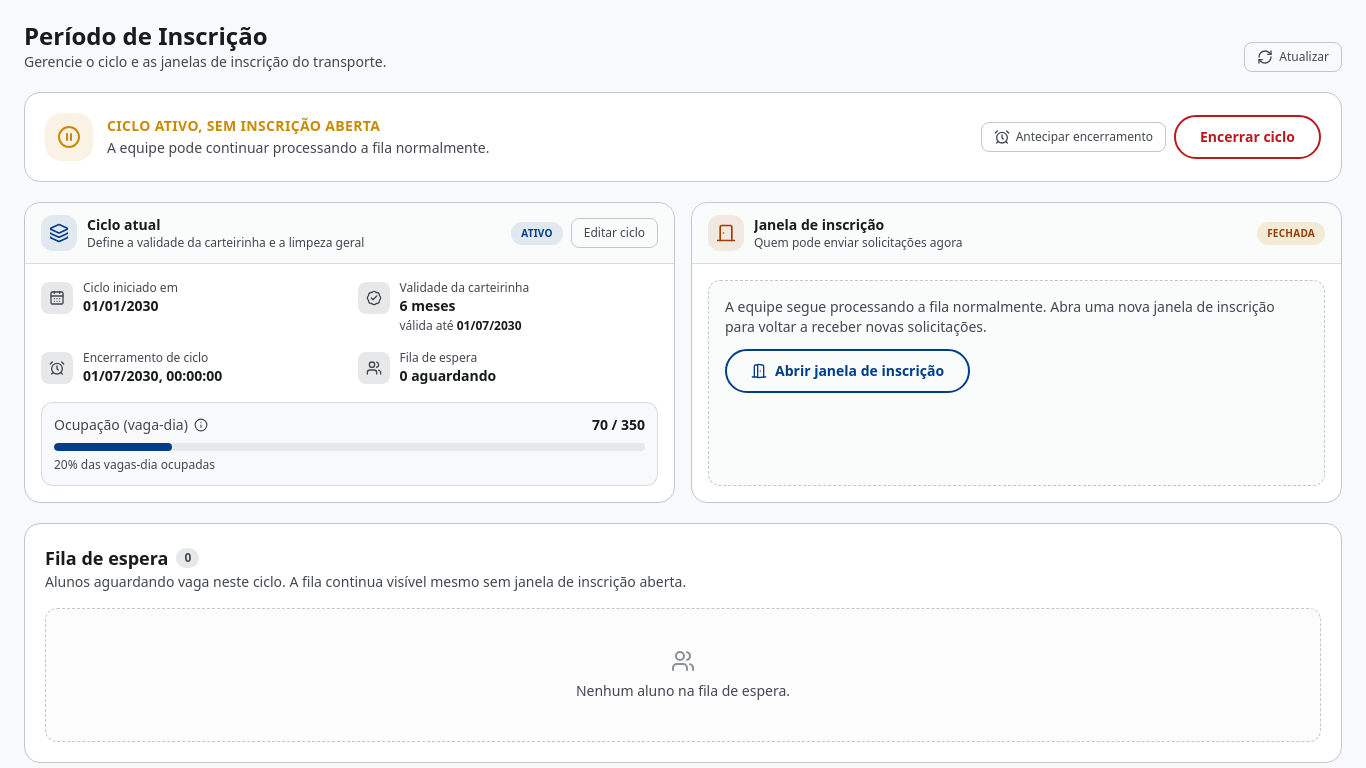
Test: EnrollmentPeriodPage — encerrar carteirinhas ao abrir janela › com a flag, pede ciência antes de mandar qualquer coisa
Click the button "Abrir janela de inscrição": (848, 371) [725, 349, 970, 393]
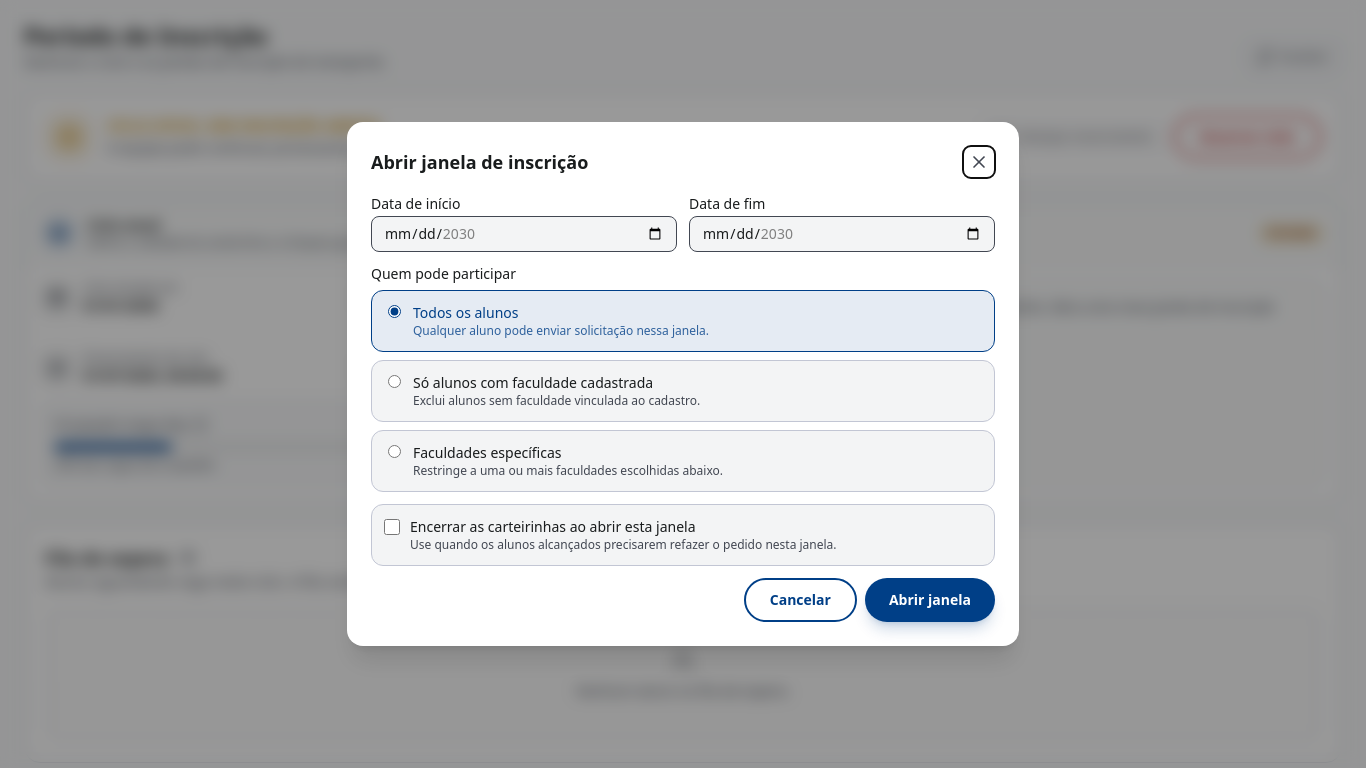
Expected: the date field labelled "Data de início" is shown
In the date field labelled "Data de início": (524, 234) [371, 216, 677, 252], type "2030-04-01"
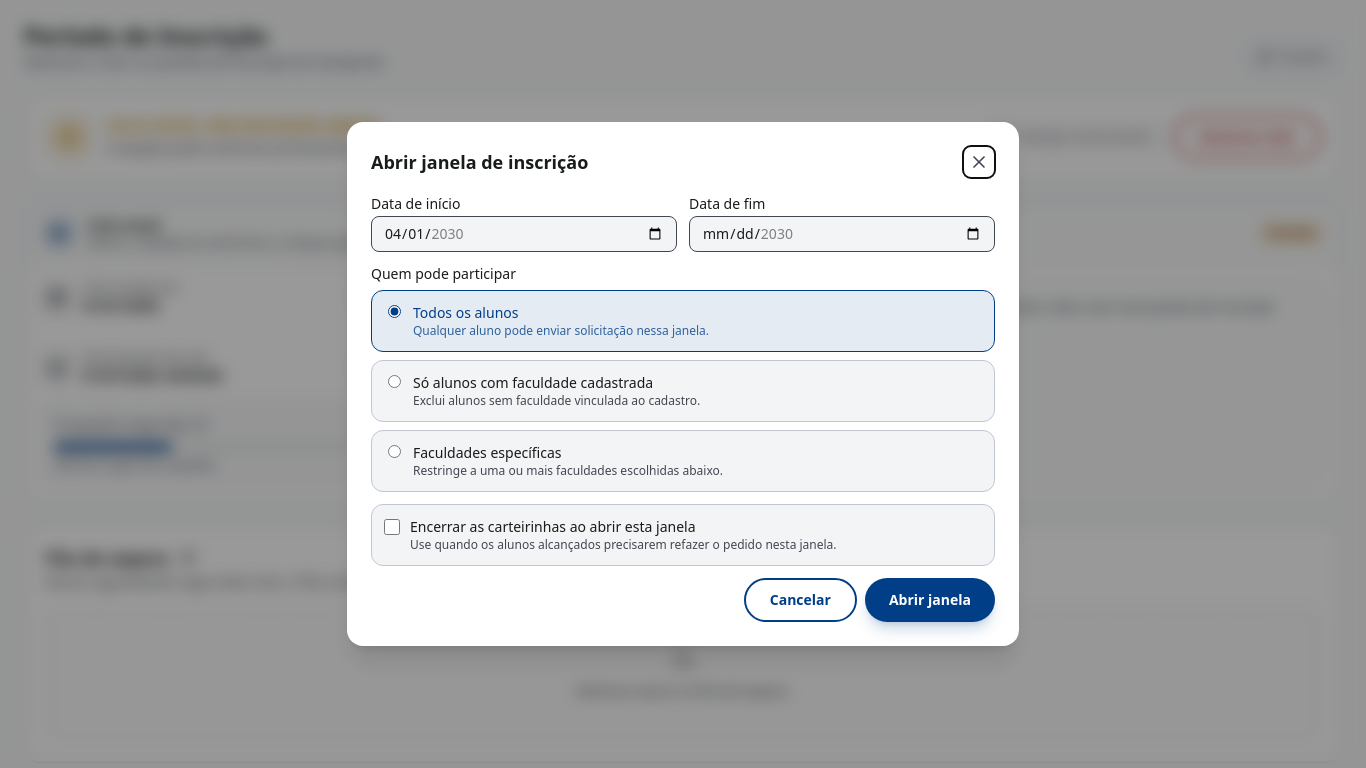
In the date field labelled "Data de fim": (842, 234) [689, 216, 995, 252], type "2030-04-03"
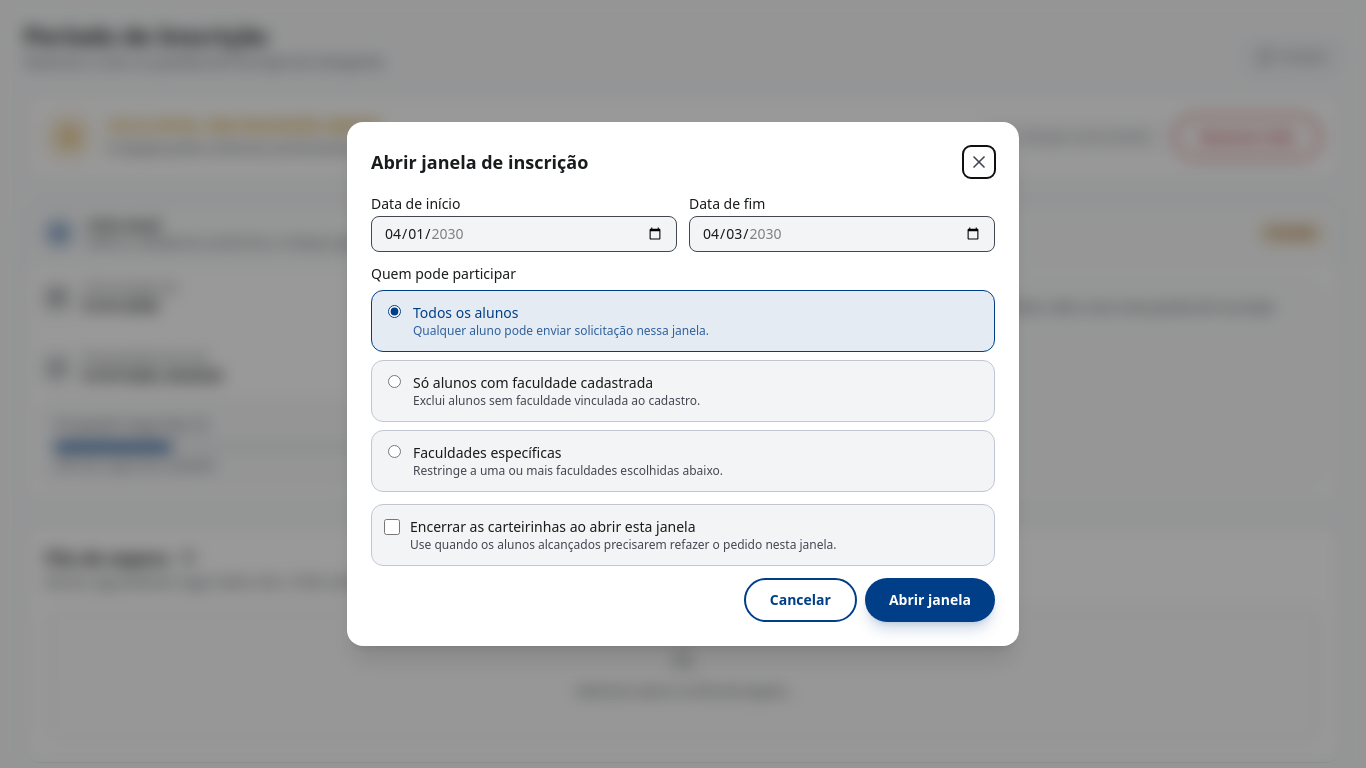
Click the checkbox labelled "Encerrar as carteirinhas": (392, 527) [384, 519, 400, 535]
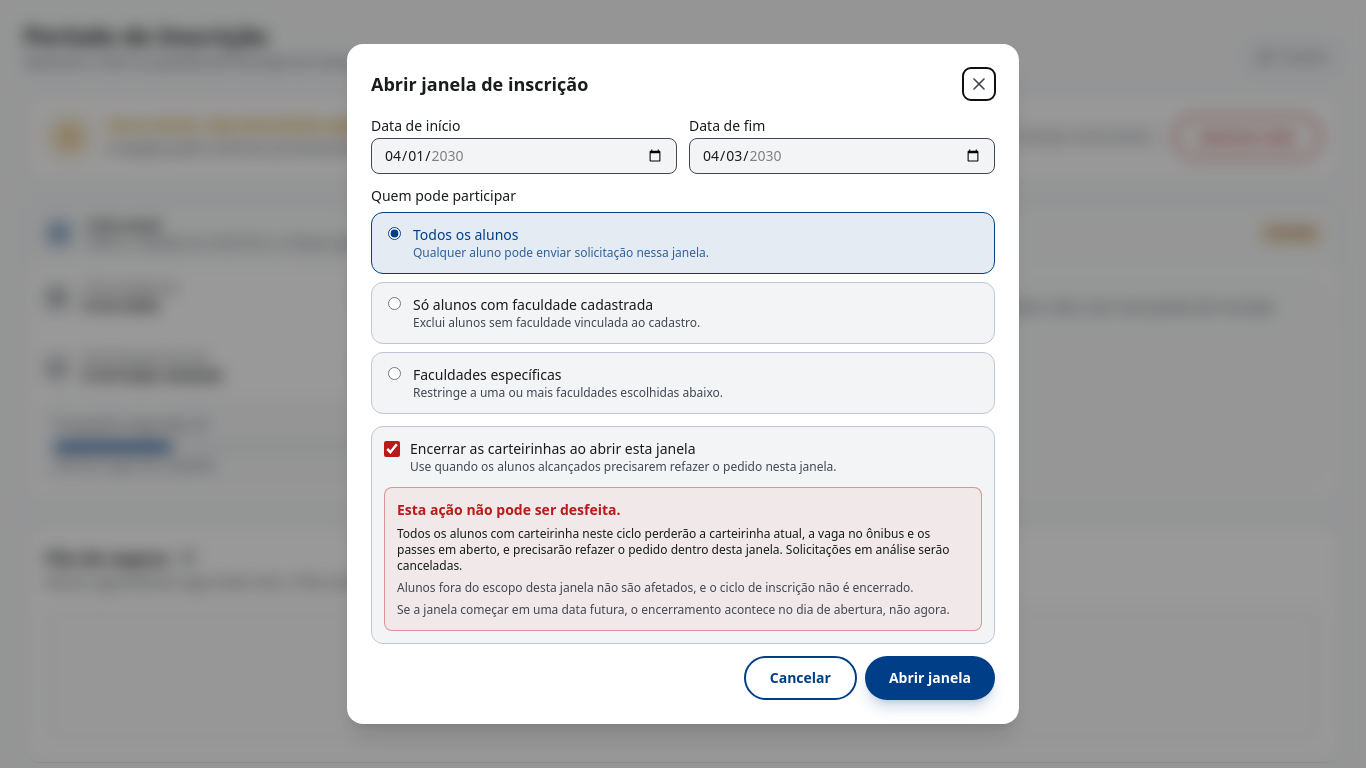
Click the button "Abrir janela": (930, 678) [865, 656, 995, 700]
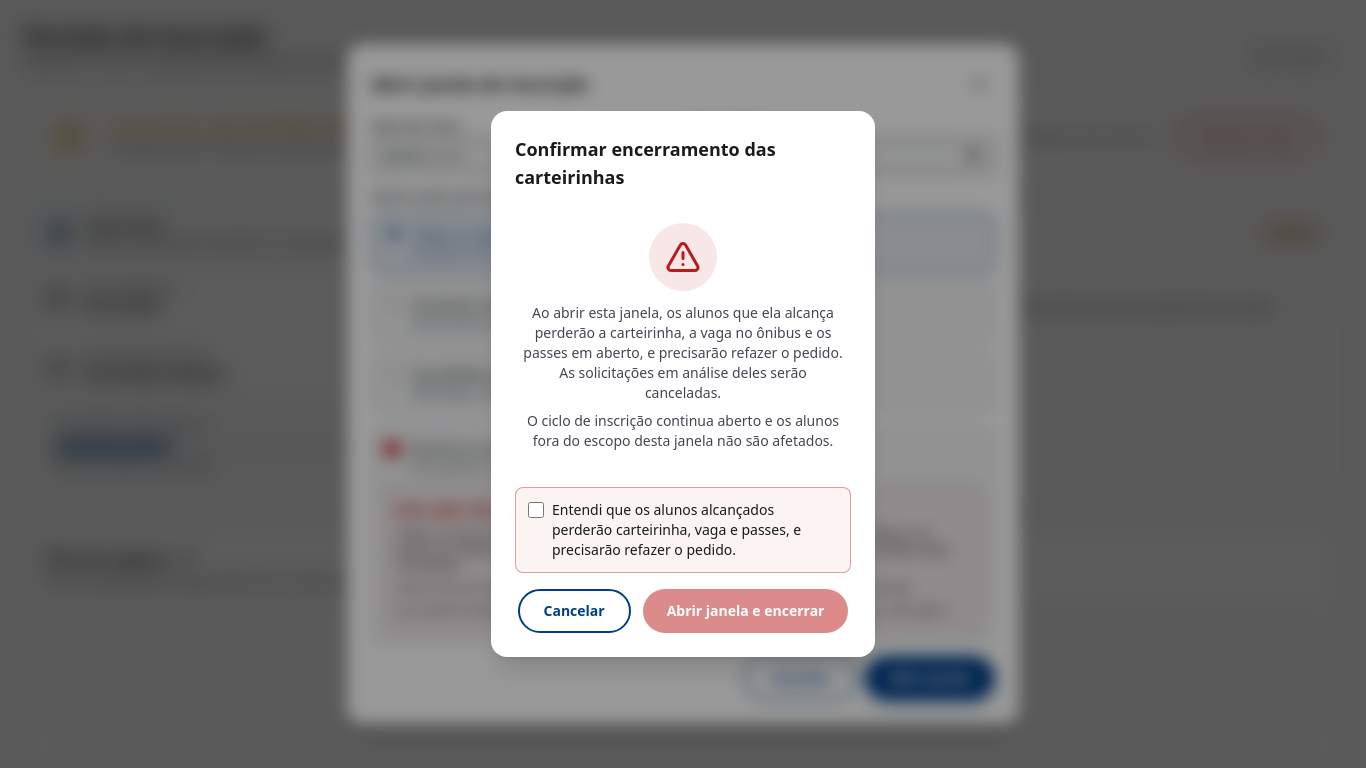
Expected: the heading "Confirmar encerramento das carteirinhas" is shown, [515, 137, 776, 189]
